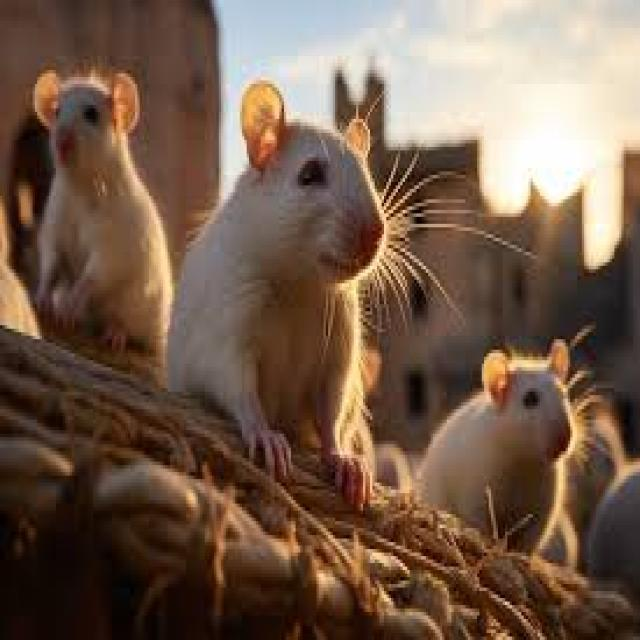Rat: (33, 53, 640, 559)
